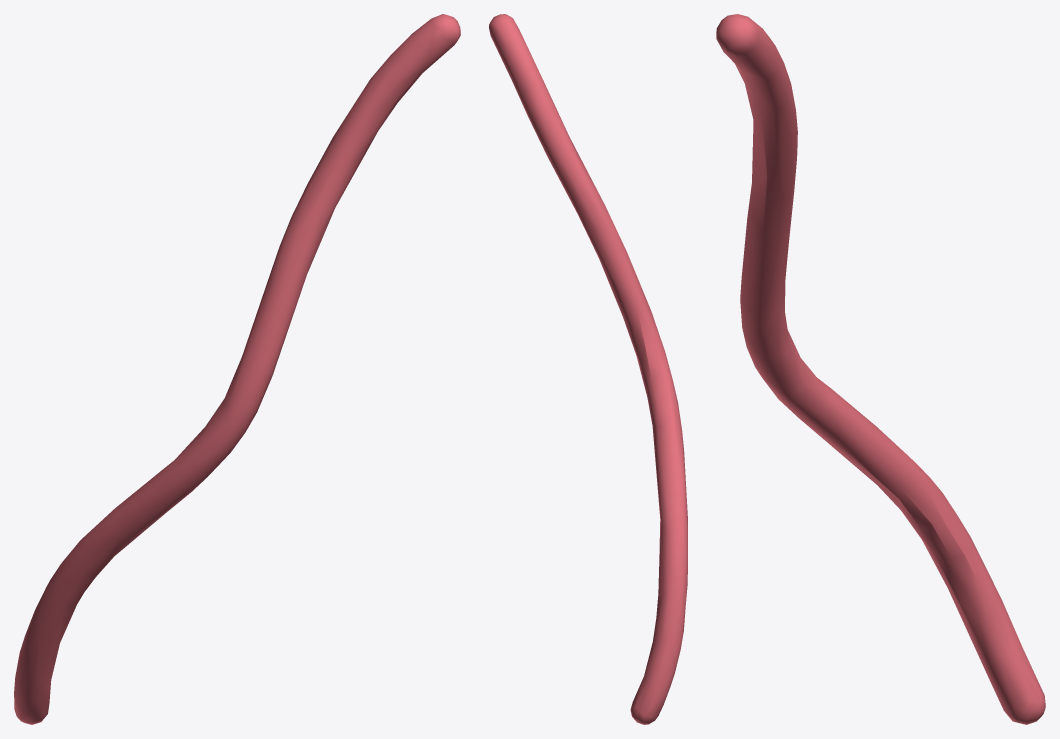
The model's file is fma4714_fj2724.glb.
3 renders of one model, left to right at view 1: azimuth 30°, elevation 25°; view 2: azimuth 150°, elevation 25°; view 3: azimuth 270°, elevation 25°, orthographic. The views are drawn at different scales.
Visible parts, largest first — view 1: FMA4714_FJ2724; view 2: FMA4714_FJ2724; view 3: FMA4714_FJ2724.
Boxes of the visible parts, x1,y1,x2,y2 form: FMA4714_FJ2724: [14, 14, 460, 724]; FMA4714_FJ2724: [489, 14, 687, 724]; FMA4714_FJ2724: [716, 14, 1045, 724].
Bounding box in the file's own units: 0.019 × 0.0391 × 0.0132.
